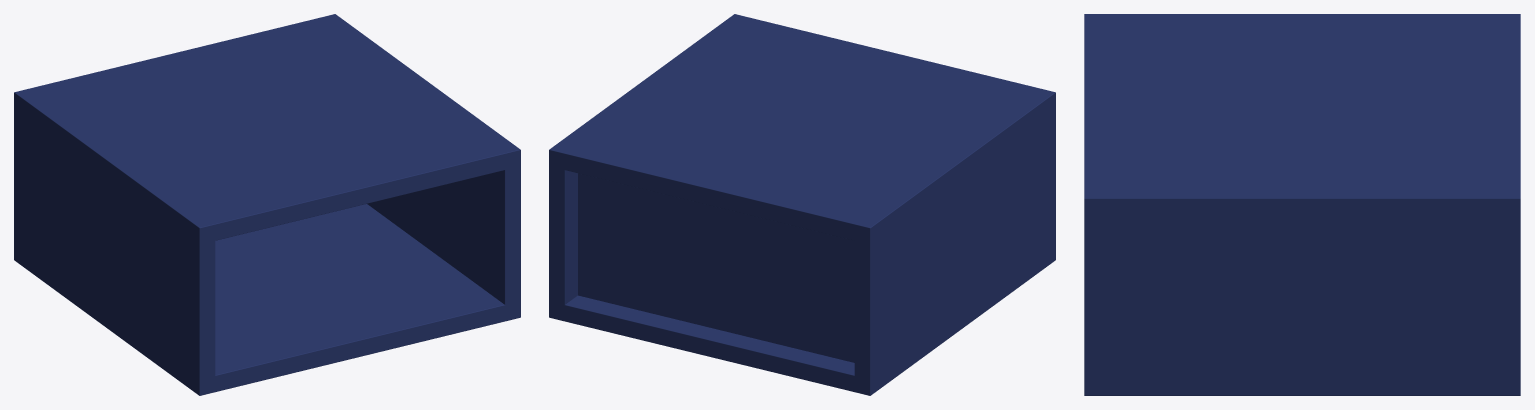
The model's file is MOD_1X05_A_B_AF.glb.
The picture shows the model from 3 angles, left to right: view 1: azimuth 30°, elevation 25°; view 2: azimuth 150°, elevation 25°; view 3: azimuth 270°, elevation 25°; orthographic projection. The views are drawn at different scales.
Bounding box in the file's own units: 360 × 180 × 360.
